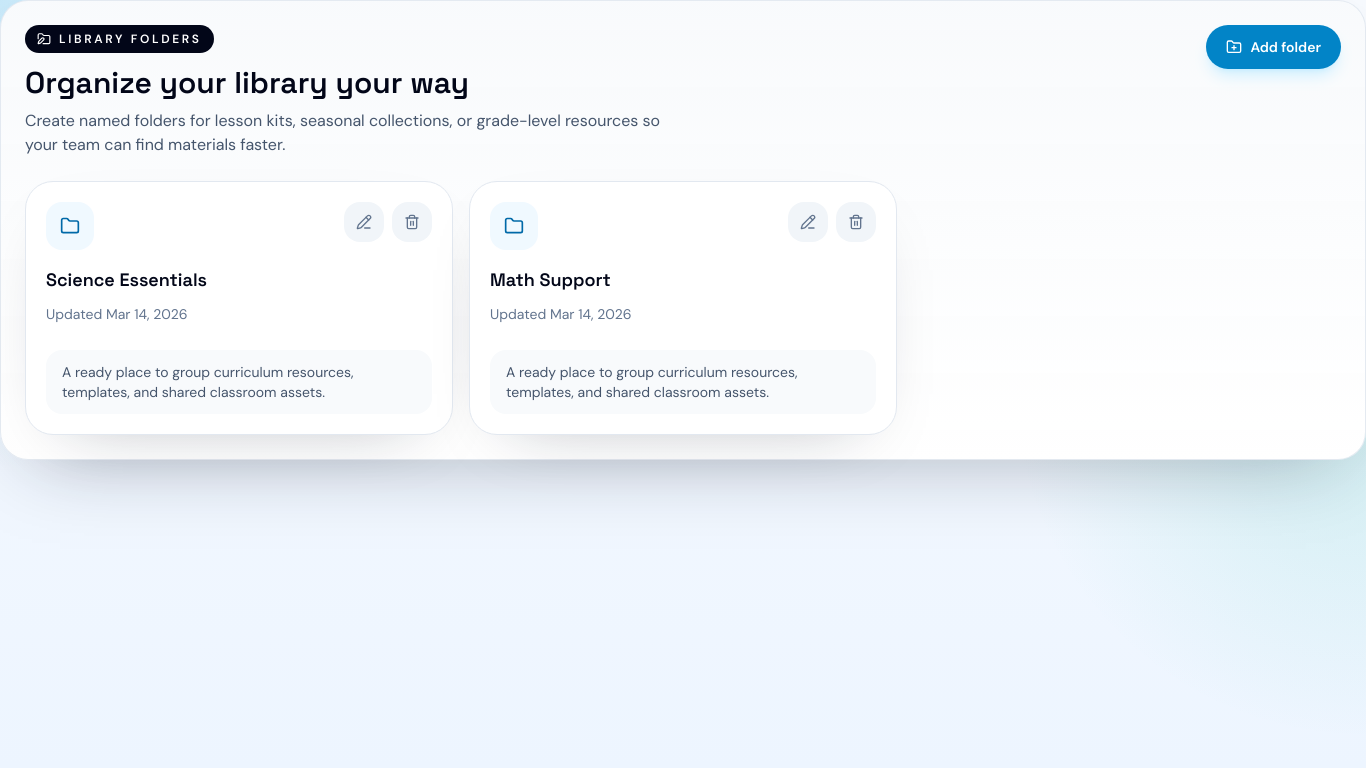
ui components › creates, edits, and deletes folders from the library manager
Click the button "Add folder" at (1274, 47), box left=1206, top=25, right=1341, bottom=69
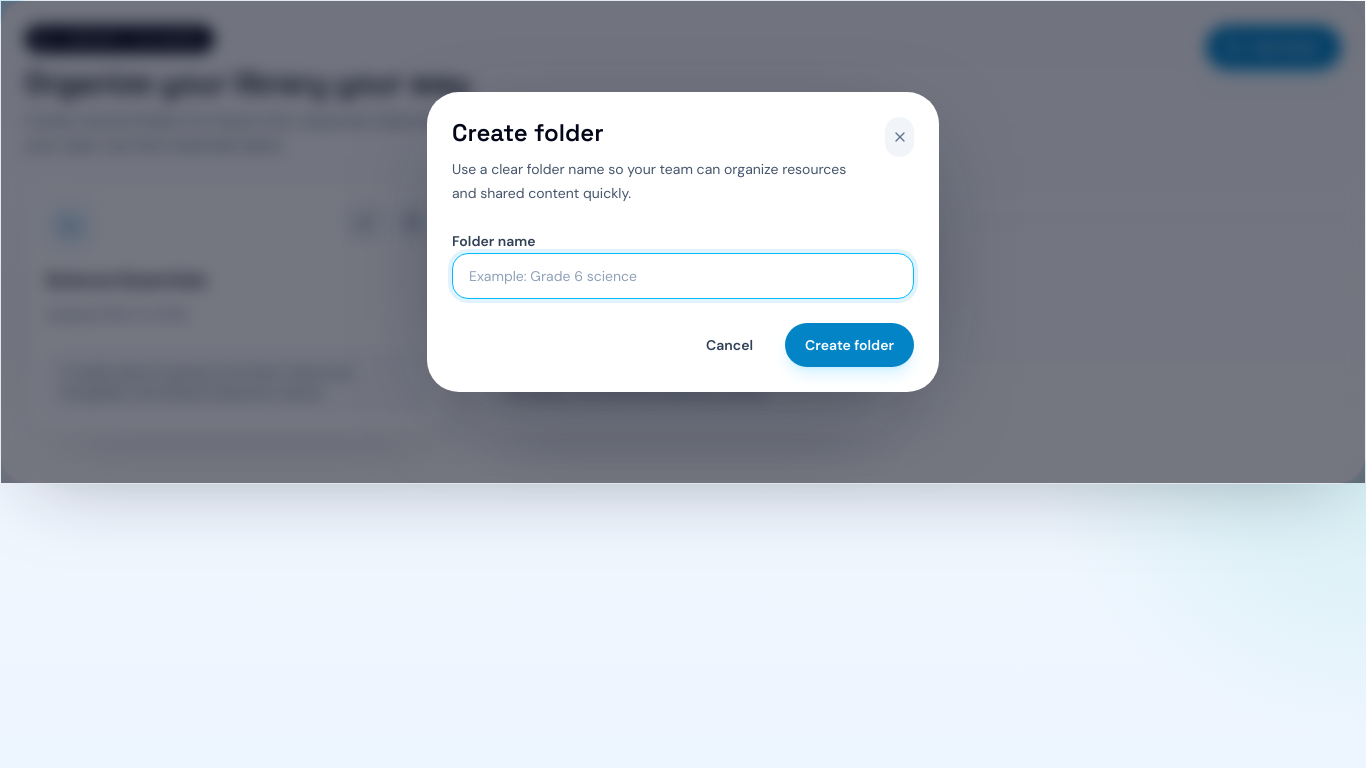
Type "Assessment Bank" into the field with placeholder "Example: Grade 6 science" at (683, 276), box left=452, top=253, right=914, bottom=299
Click the button "Create folder" at (850, 345), box left=785, top=323, right=914, bottom=367
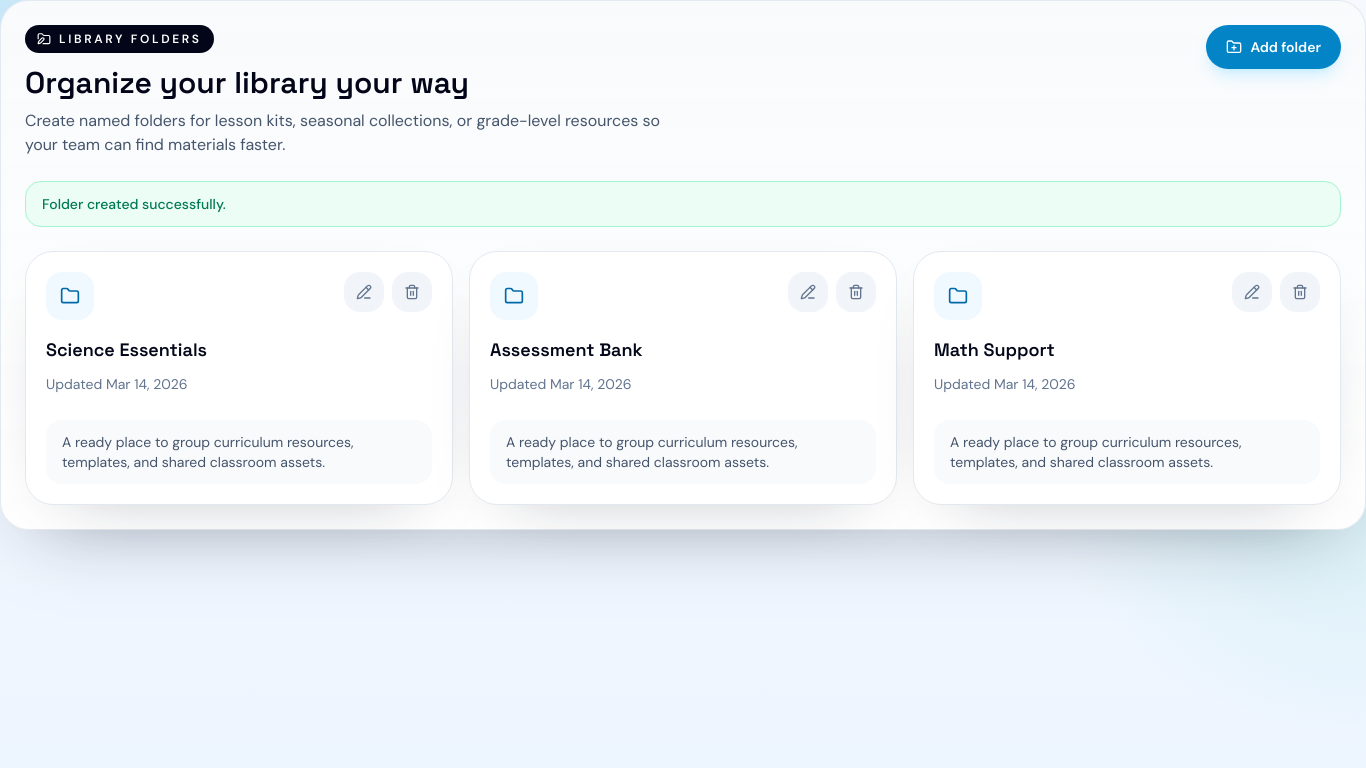
Check: the heading "Assessment Bank" is shown, box left=490, top=336, right=643, bottom=364
Click the button named "edit science essentials" at (364, 292), box left=344, top=272, right=384, bottom=312
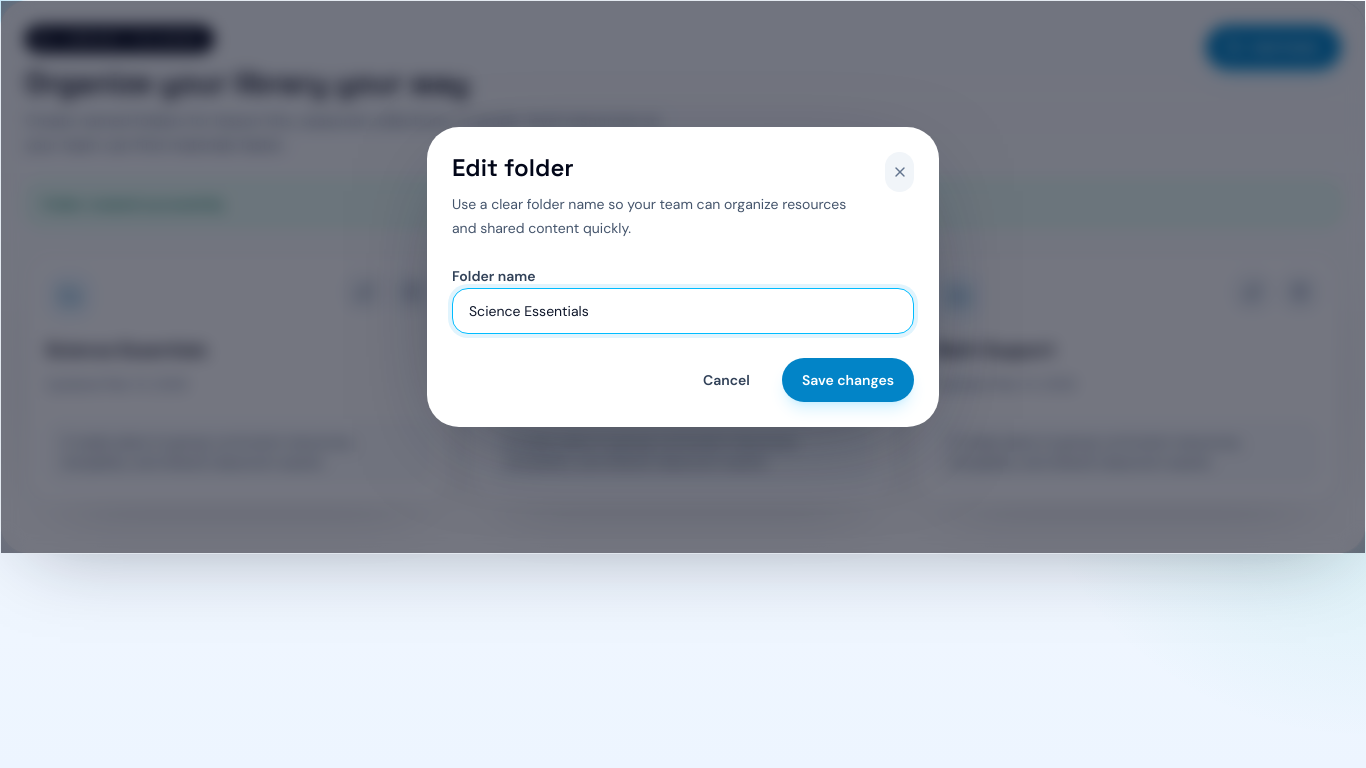
Replace the text in the field showing "Science Essentials" with "Updated Science Essentials" at (683, 311), box left=452, top=288, right=914, bottom=334
Click the button "Save changes" at (848, 380), box left=782, top=358, right=914, bottom=402
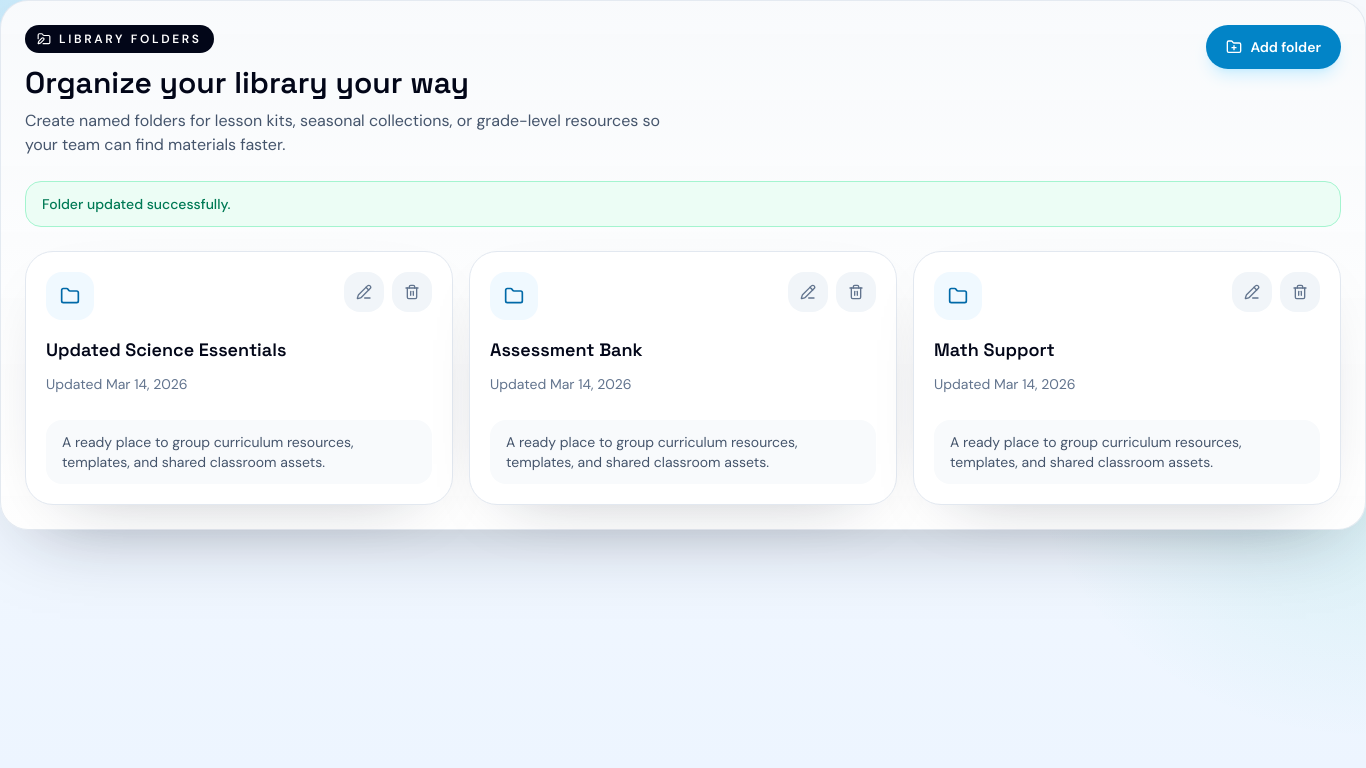
Check: the heading "Updated Science Essentials" is shown, box left=46, top=336, right=286, bottom=364
Click the button named "delete assessment bank" at (856, 292), box left=836, top=272, right=876, bottom=312
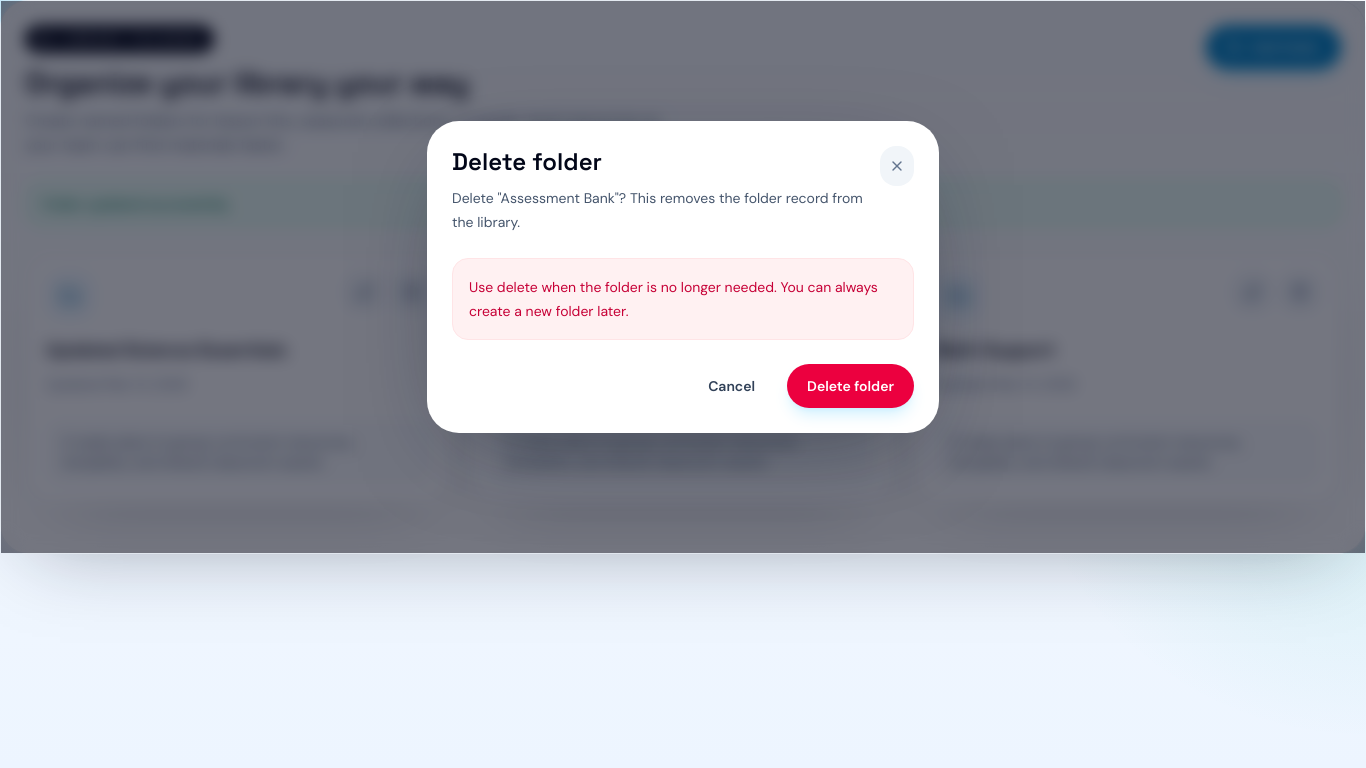
Click the button "Delete folder" at (851, 386), box left=787, top=364, right=914, bottom=408
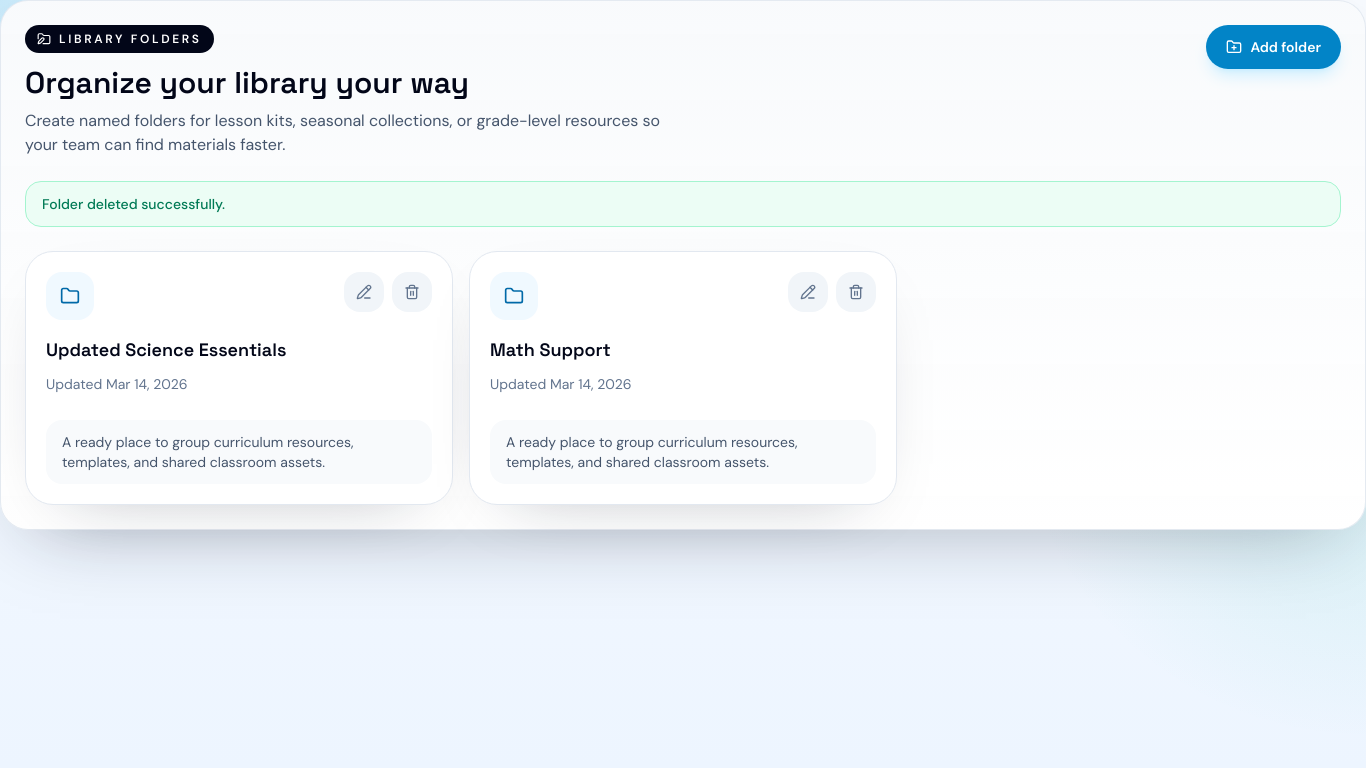
Check: the text "Folder deleted successfully." is shown, box left=25, top=181, right=1341, bottom=227
Check: the heading "Assessment Bank" is gone
